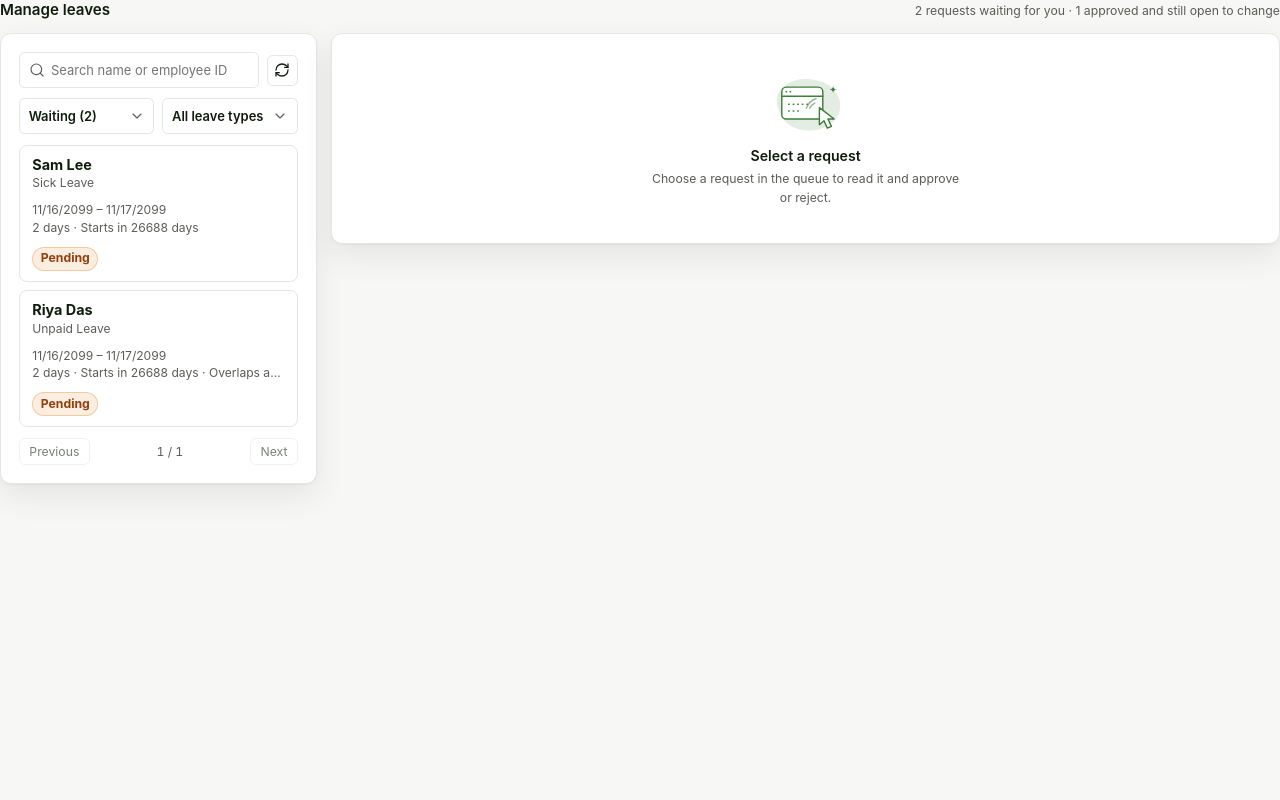
LeaveApprovalWorkspace › requires a reason to reject and emails it
This screenshot has width=1280, height=800.
Click the text "Sam Lee" at (62, 164), box [32,156,92,173]
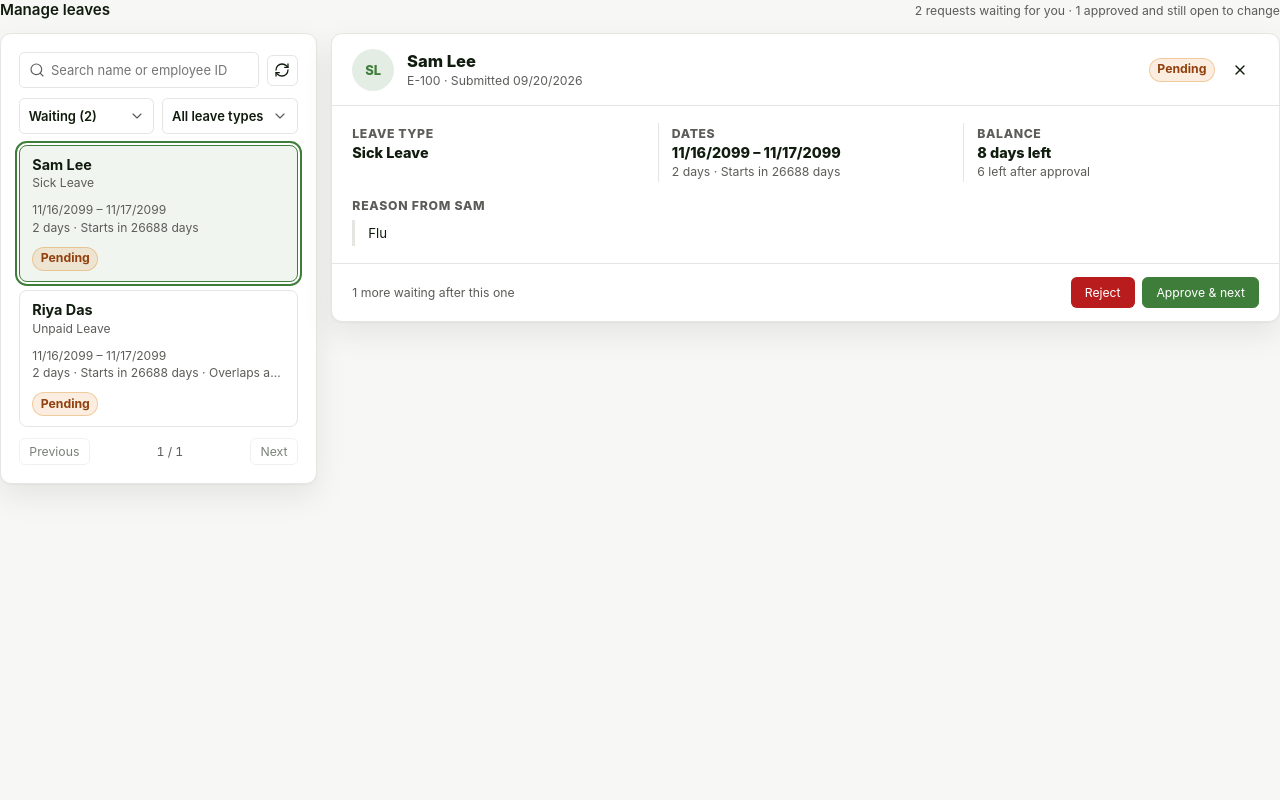
Click the button "Reject" at (1103, 293), box [1071,277,1134,308]
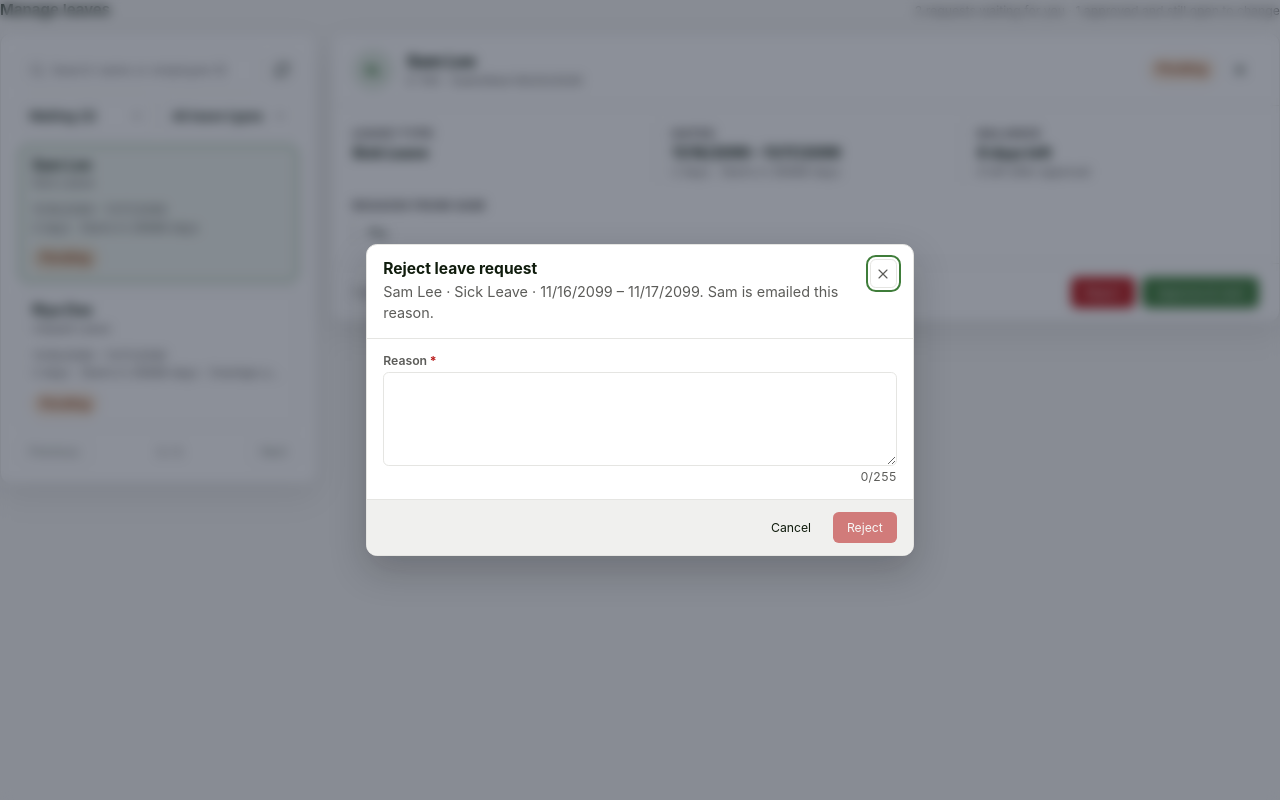
Expected: the button "Reject" is disabled, [833,512,897,543]
Expected: the text "is emailed this reason" is shown, [383,283,838,321]
Type "Team offsite that week" into the text box labelled "Reason*" at (640, 419), box [383,372,897,466]
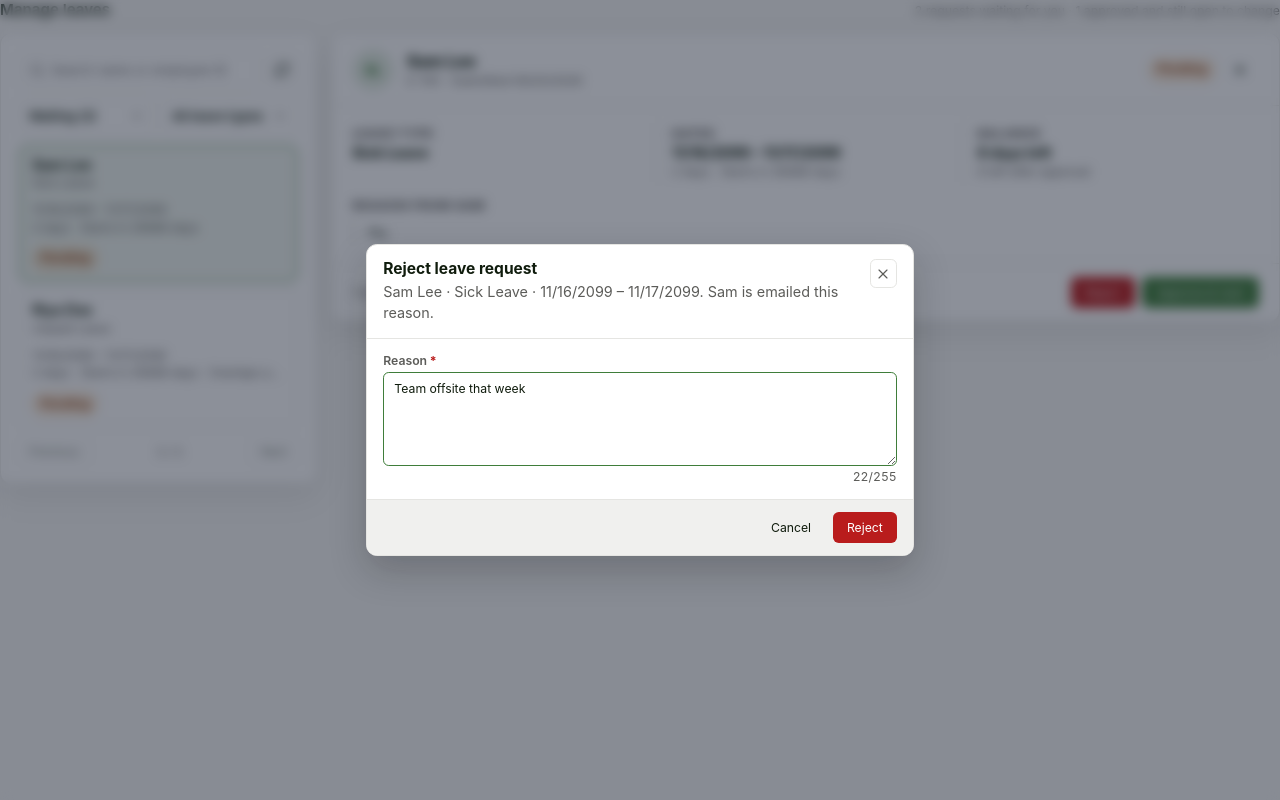
Click the button "Reject" at (865, 527), box [833,512,897,543]
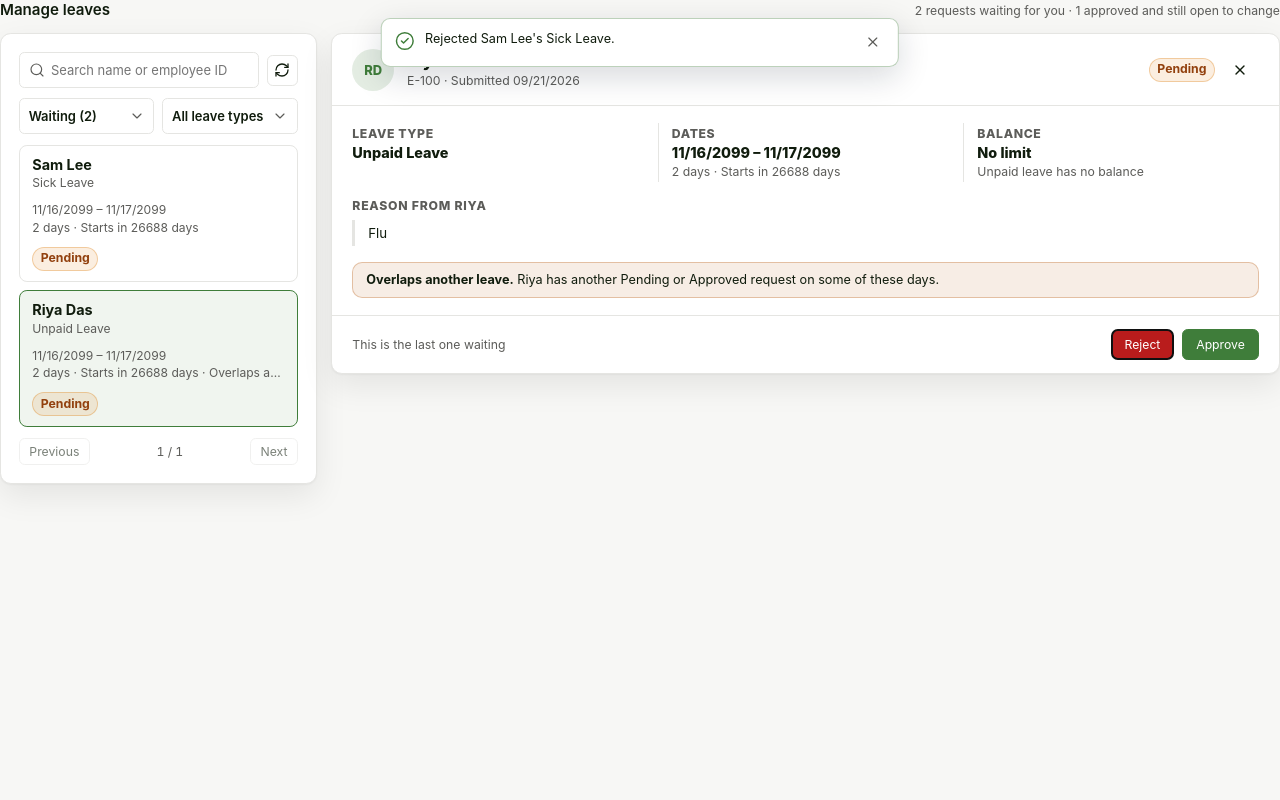
Expected: the text "Rejected Sam Lee's Sick Leave." is shown, [425,31,615,46]
